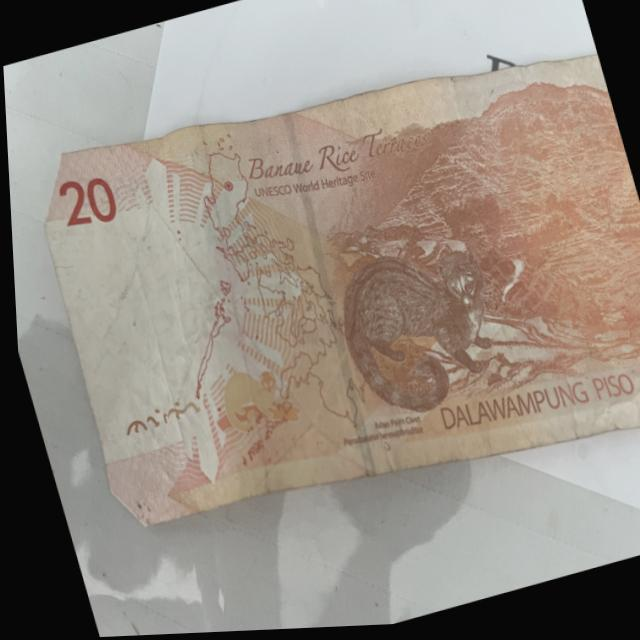20_civet: (322, 229, 521, 431)
20_civet_watermark: (206, 359, 293, 448)
